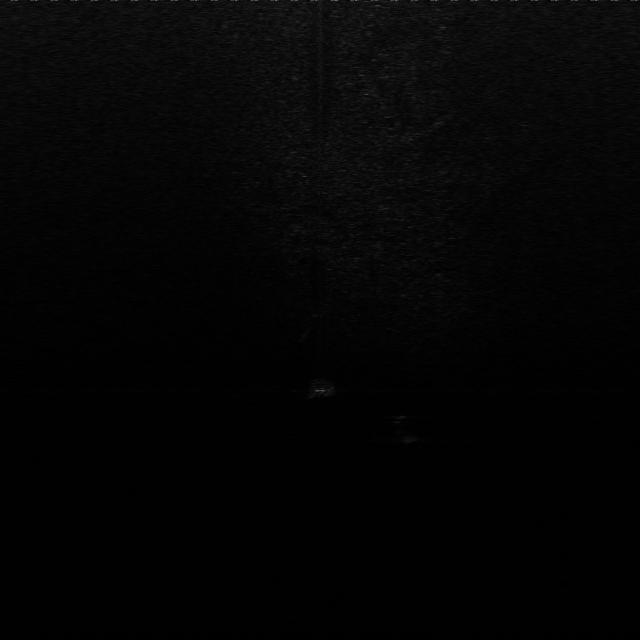circle cage: (303, 372, 341, 404)
tyre: (386, 410, 430, 448)
